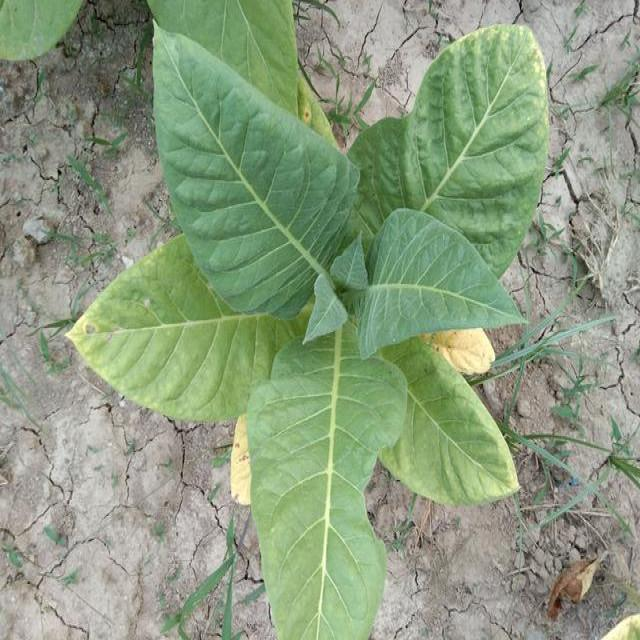crop: (63, 12, 558, 640)
